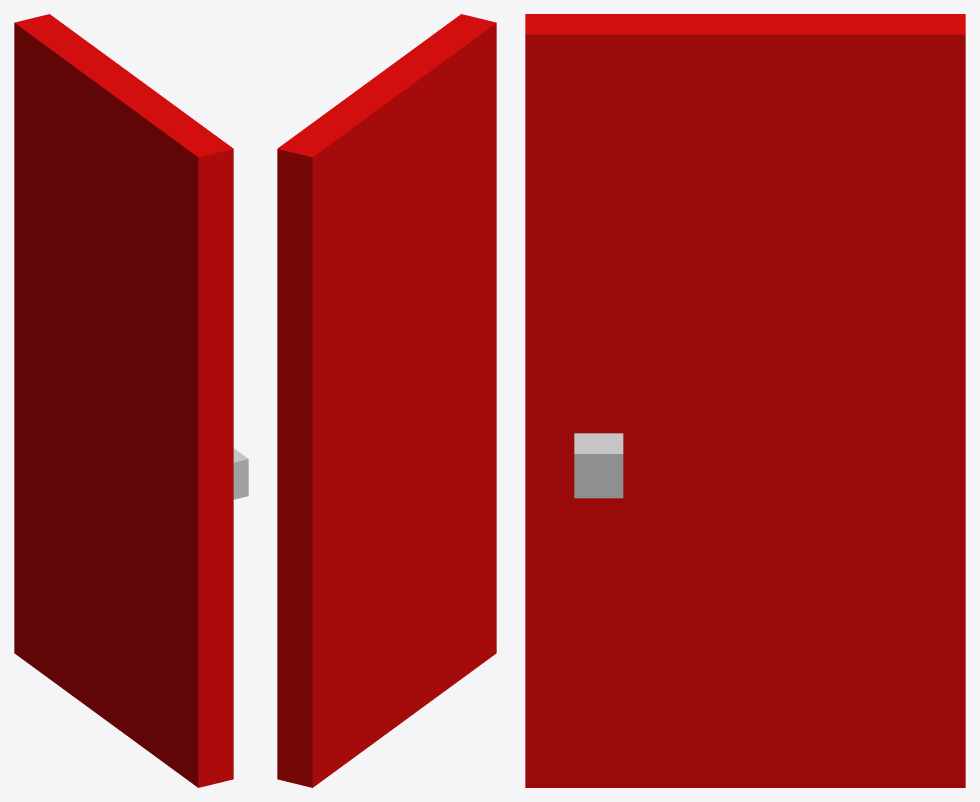
Rendered from Bowling no details-5.obj.
3 renders of one model, left to right at view 1: azimuth 30°, elevation 25°; view 2: azimuth 150°, elevation 25°; view 3: azimuth 270°, elevation 25°, orthographic. The views are drawn at different scales.
Visible parts, largest first — view 1: Bowling no details-5; view 2: Bowling no details-5; view 3: Bowling no details-5.
Boxes of the visible parts, <box> form: Bowling no details-5: <box>14,14,248,787</box>; Bowling no details-5: <box>277,14,496,787</box>; Bowling no details-5: <box>525,14,965,787</box>.
Size of the model in its own units: 2 by 17 by 9.
